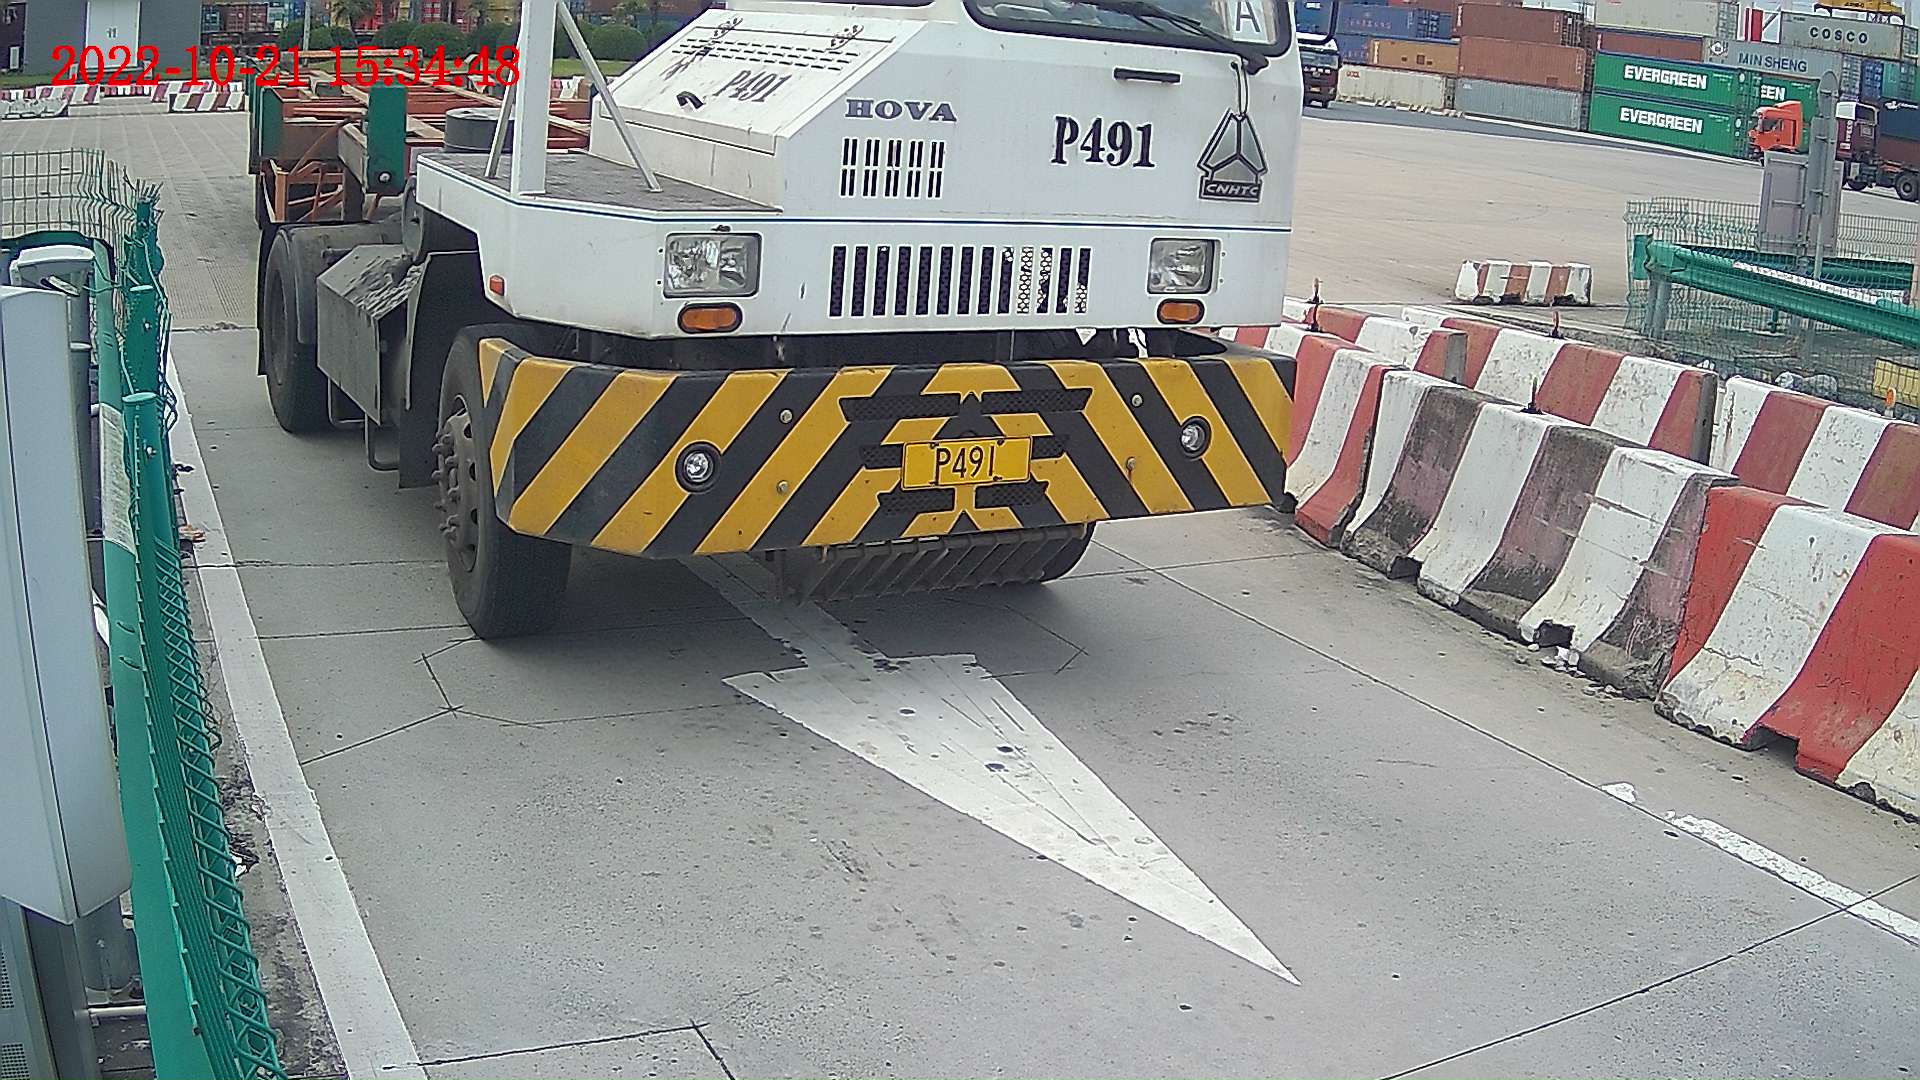head: (446, 1, 1309, 665)
plate: (900, 445, 1026, 481)
